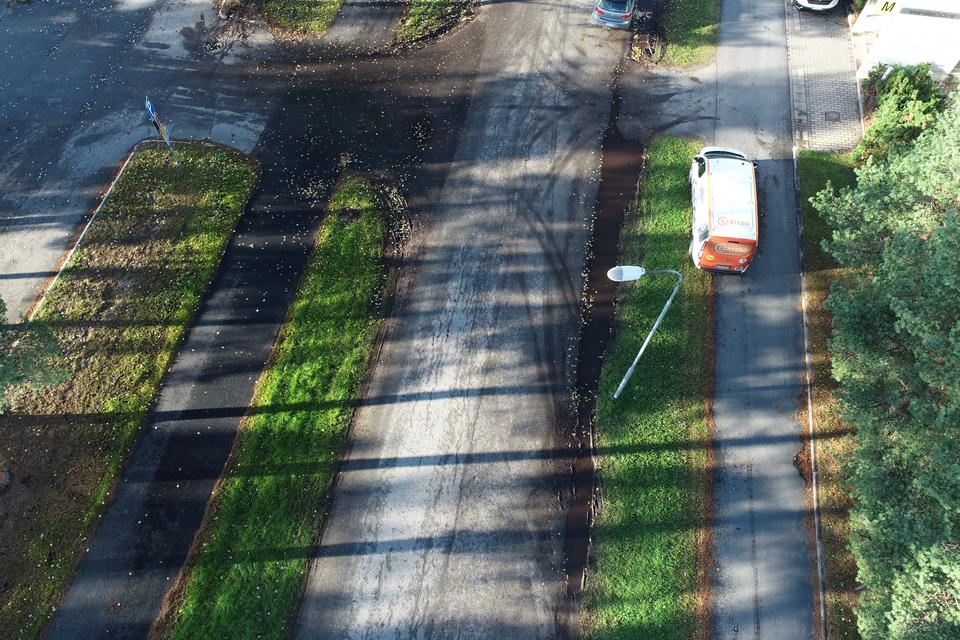intersection: (98, 1, 682, 199)
